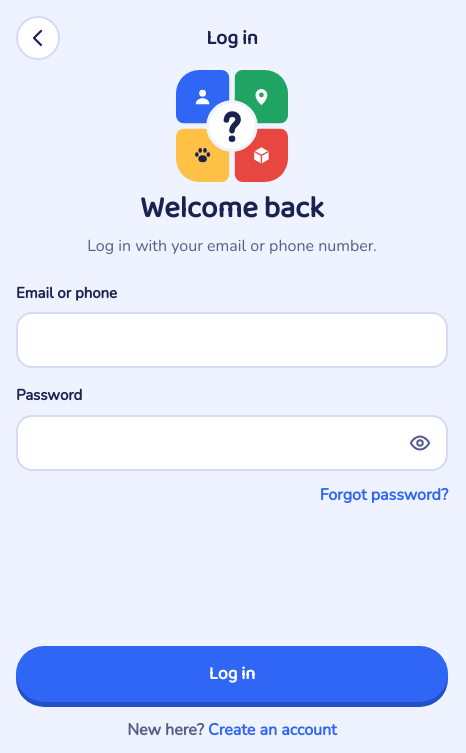
Test: log in and log out › wrong credentials show the generic message
Type "a@b.co" into the field labelled "Email or phone".
click(232, 340); type("a@b.co")  # box [16,312,448,368]
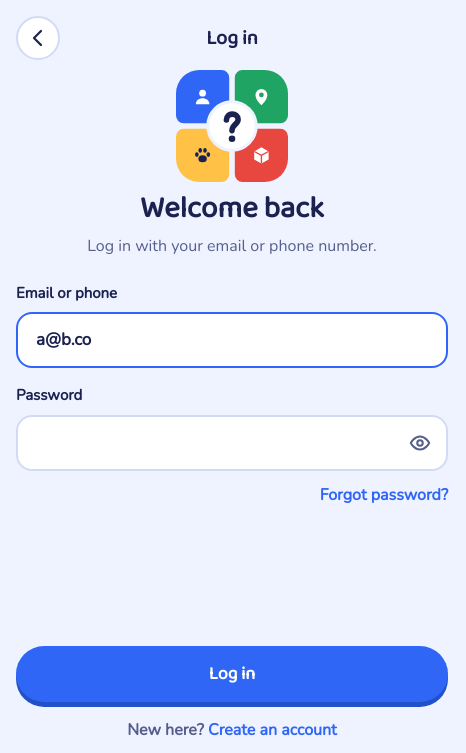
Type "wrong" into the password field labelled "Password".
click(232, 442); type("wrong")  # box [16,414,448,470]
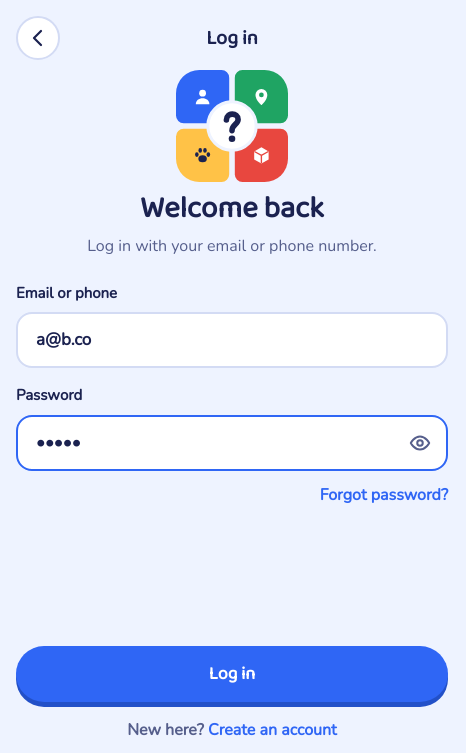
Click the button "Log in".
click(232, 674)  # box [16,646,448,702]
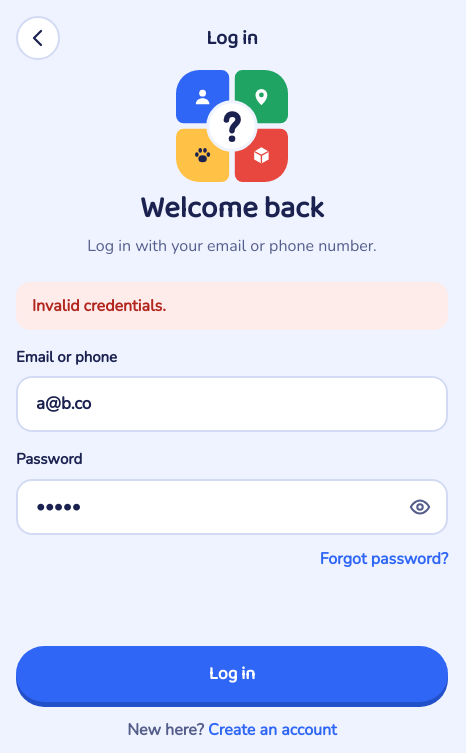
Result: the message reads "Invalid credentials." at [32,294,166,316]
